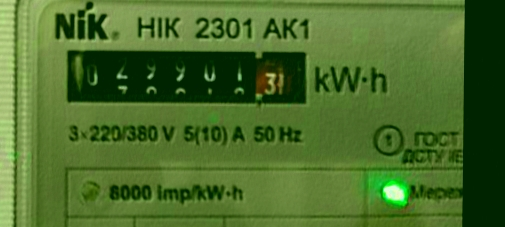0: (82, 60, 100, 87), (201, 55, 217, 85)
1: (232, 55, 245, 83)
2: (112, 54, 130, 82)
3: (261, 70, 278, 96)
9: (142, 55, 158, 82), (173, 56, 186, 83)
screen: (56, 40, 317, 115)
